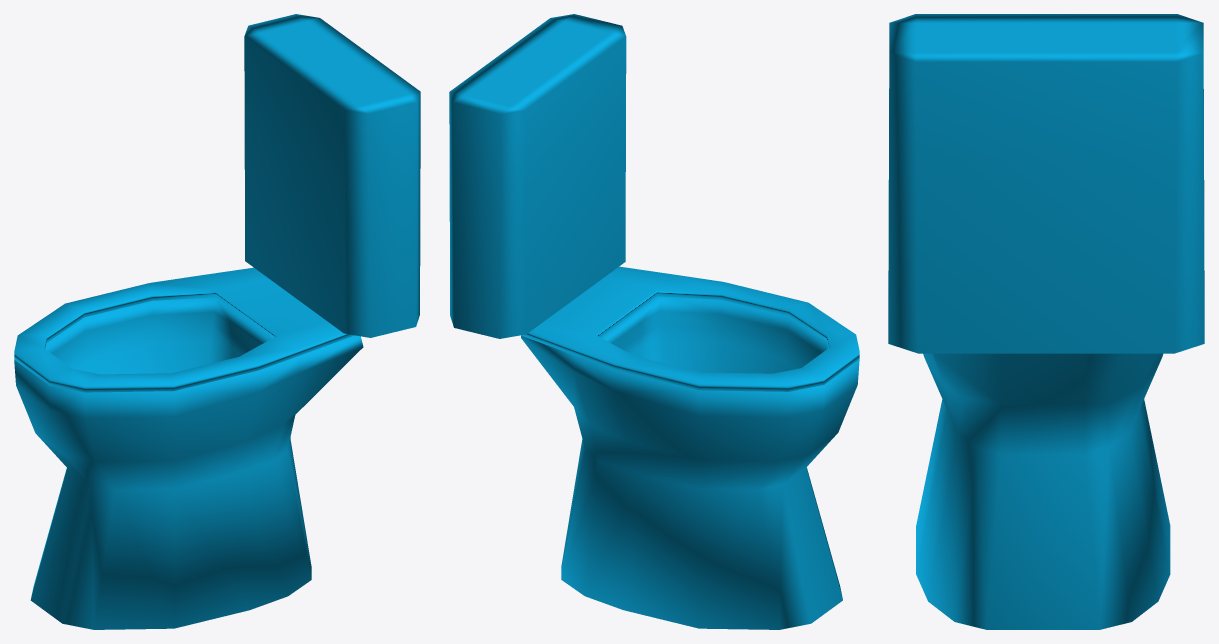
3 renders of one model, left to right at view 1: azimuth 30°, elevation 25°; view 2: azimuth 150°, elevation 25°; view 3: azimuth 270°, elevation 25°, orthographic. The views are drawn at different scales.
Parts seen in each view (by area): view 1: Wc_02_Lod2; view 2: Wc_02_Lod2; view 3: Wc_02_Lod2.
Boxes of the visible parts, <box> form: Wc_02_Lod2: <box>14,14,420,629</box>; Wc_02_Lod2: <box>449,14,859,629</box>; Wc_02_Lod2: <box>888,14,1204,629</box>.
Bounding box in the file's own units: 60.81 × 81.55 × 37.67.
